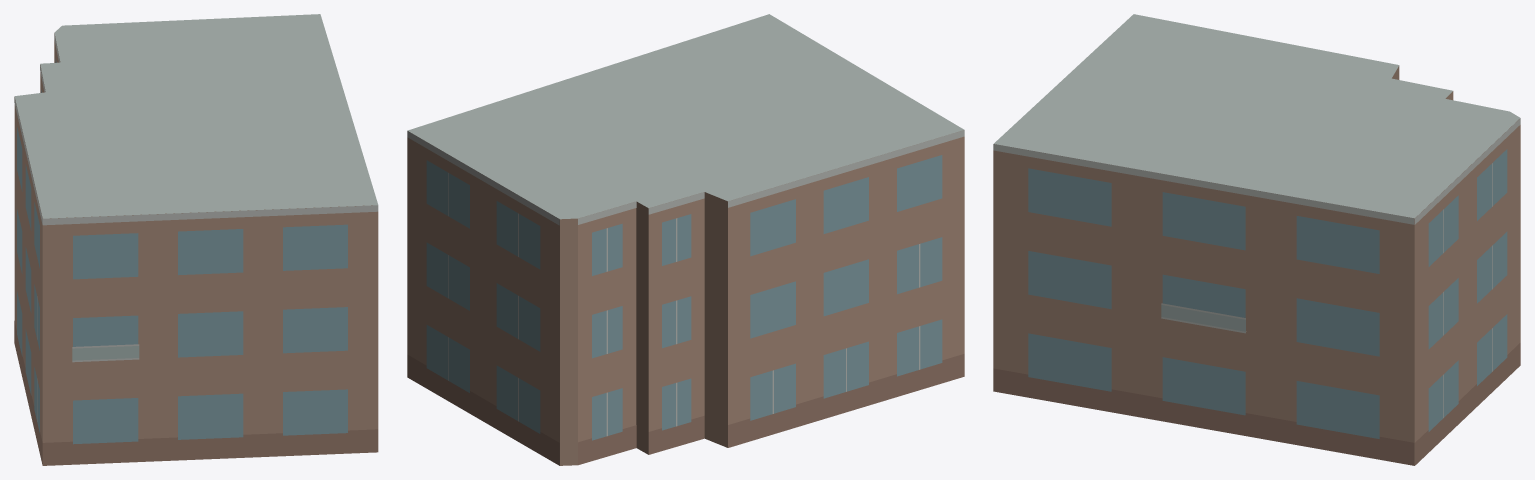
File: survey-upis-32780462.glb
3 renders of one model, left to right at view 1: azimuth 30°, elevation 25°; view 2: azimuth 150°, elevation 25°; view 3: azimuth 270°, elevation 25°, orthographic.
Visible parts, largest first — view 1: survey-upis-32780462.tmp; view 2: survey-upis-32780462.tmp; view 3: survey-upis-32780462.tmp.
Boxes of the visible parts, x1=… form: survey-upis-32780462.tmp: x1=14, y1=14, x2=378, y2=465; survey-upis-32780462.tmp: x1=407, y1=14, x2=964, y2=465; survey-upis-32780462.tmp: x1=993, y1=14, x2=1520, y2=465.
Size of the model in its own units: 16.21 by 9.15 by 17.67.
